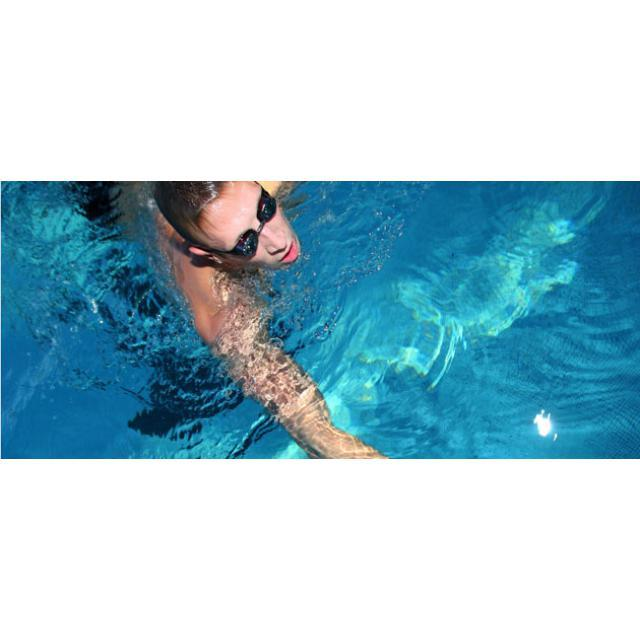human: (136, 182, 422, 458)
